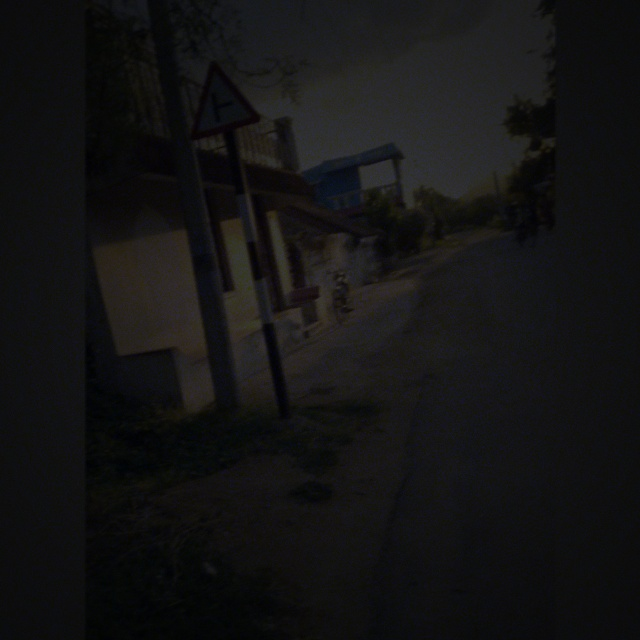Side_Road_Right: (185, 61, 271, 137)
